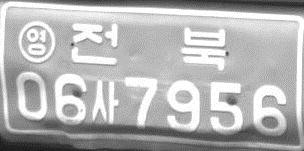0: (15, 70, 47, 120)
5: (209, 80, 245, 137)
6: (252, 83, 287, 137), (53, 73, 87, 126)
7: (124, 75, 159, 130)
9: (165, 79, 201, 134)
사: (92, 79, 117, 126)
영: (17, 18, 56, 64)
전북_D: (70, 22, 226, 71)
